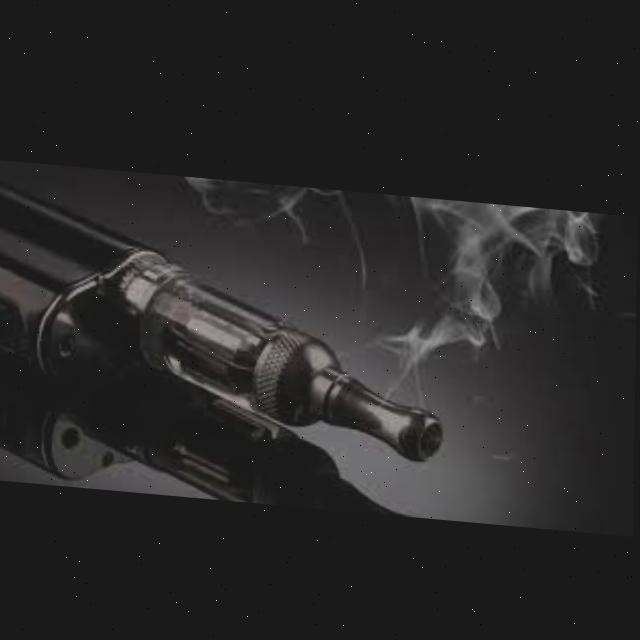vape: (0, 183, 449, 457)
